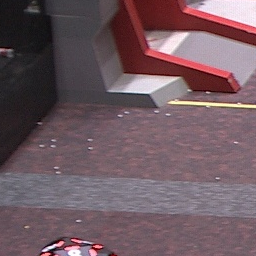Red: (53, 246, 97, 256)
